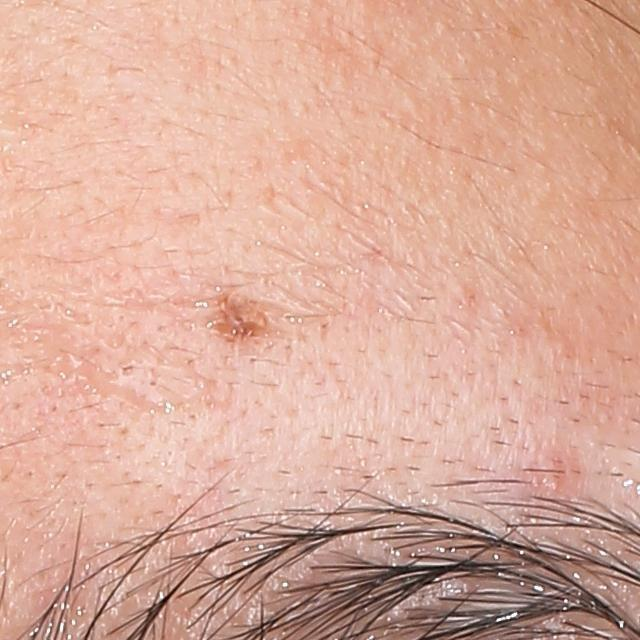nevus: (203, 292, 271, 348)
